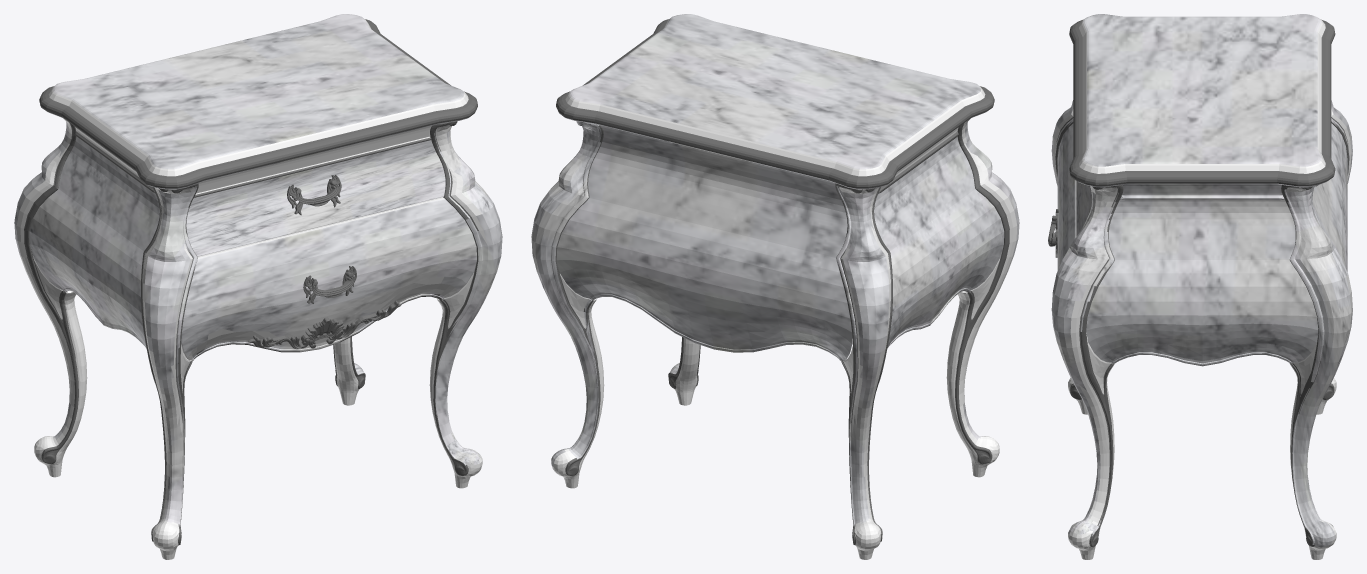
File: desk07.obj
3 renders of one model, left to right at view 1: azimuth 30°, elevation 25°; view 2: azimuth 150°, elevation 25°; view 3: azimuth 270°, elevation 25°, orthographic.
Visible parts, largest first — view 1: Object.1; view 2: Object.1; view 3: Object.1.
Part boxes in pixels (x1,y1,x2,y2): Object.1: [14, 14, 502, 559]; Object.1: [531, 14, 1019, 559]; Object.1: [1048, 14, 1352, 559].
Size of the model in its own units: 26.19 by 27.49 by 19.21.
4 materials, 1 textured.
